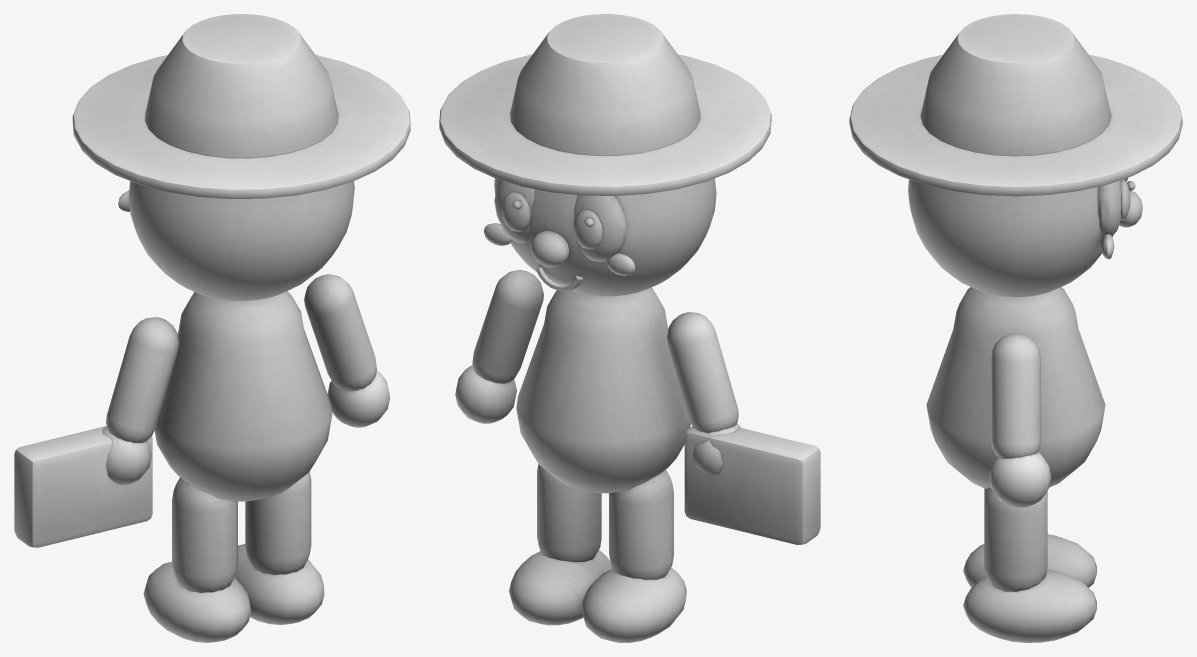
The model's file is Character_Passenger1.glb.
3 views of the same model, side by side, from view 1: azimuth 30°, elevation 25°; view 2: azimuth 150°, elevation 25°; view 3: azimuth 270°, elevation 25° (orthographic).
Visible parts, largest first — view 1: Character_Passenger1; view 2: Character_Passenger1; view 3: Character_Passenger1.
Part boxes in pixels (<box>): Character_Passenger1: <box>14,14,410,642</box>; Character_Passenger1: <box>439,14,820,642</box>; Character_Passenger1: <box>849,14,1182,642</box>.
Size of the model in its own units: 0.99 by 1.56 by 0.8.
Materials: 1 (1 with a texture image).
